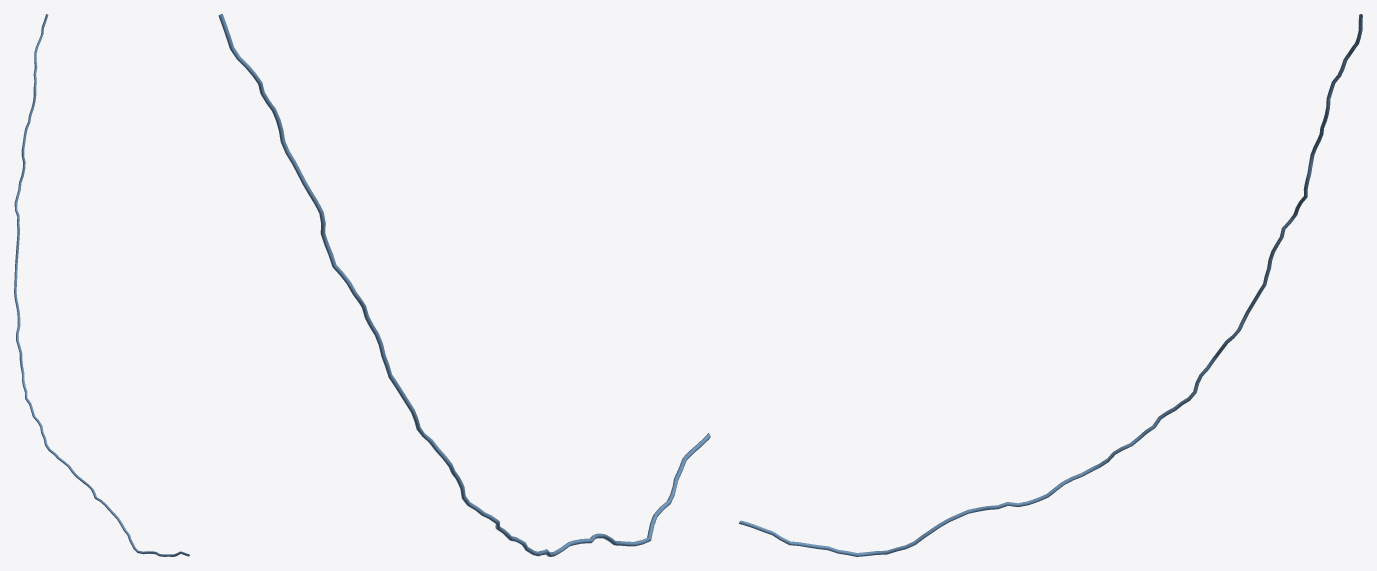
The model's file is sweep204.fbx.
3 renders of one model, left to right at view 1: azimuth 30°, elevation 25°; view 2: azimuth 150°, elevation 25°; view 3: azimuth 270°, elevation 25°, orthographic. The views are drawn at different scales.
Visible parts, largest first — view 1: sweep204; view 2: sweep204; view 3: sweep204.
Boxes of the visible parts, left/top/right/bottom form: sweep204: left=14, top=14, right=189, bottom=556; sweep204: left=218, top=14, right=710, bottom=556; sweep204: left=739, top=14, right=1362, bottom=556.
Size of the model in its own units: 0.7939 by 3.34 by 3.17.
